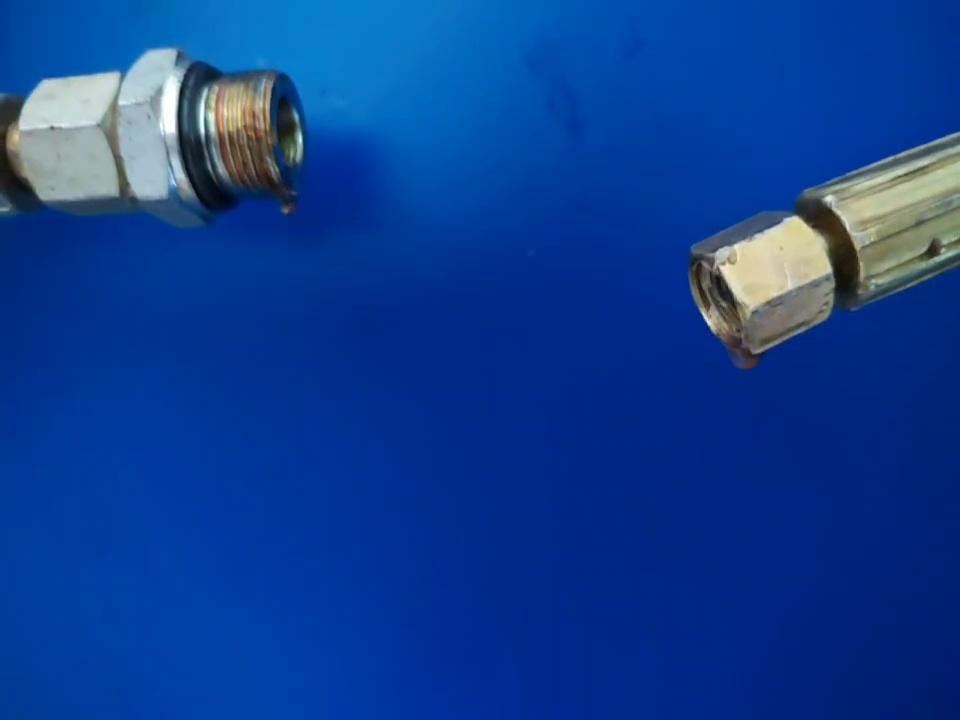water drop: (724, 345, 765, 372), (276, 189, 298, 216)
